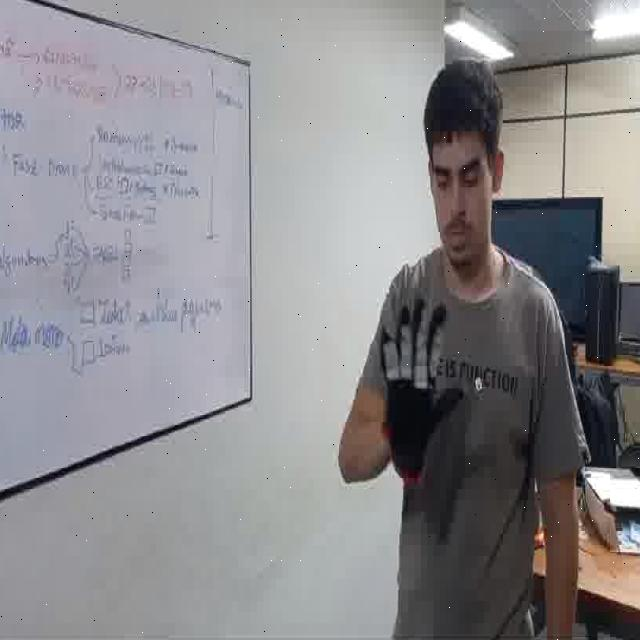Gloves: (378, 297, 464, 484)
